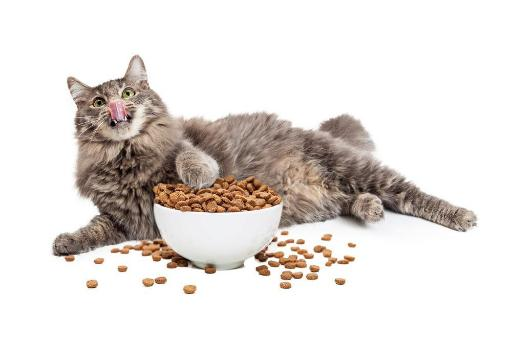cat_eating: (52, 55, 476, 270)
